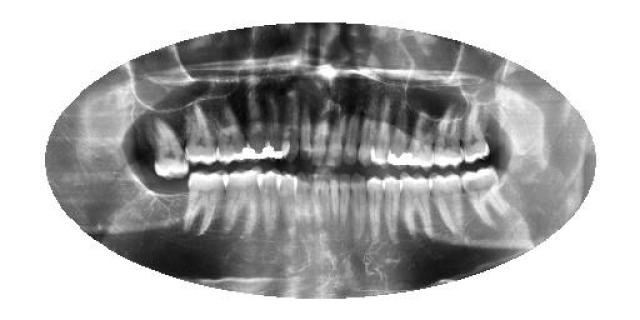Fillings: (245, 91, 267, 161), (389, 100, 410, 171), (268, 92, 284, 162)
